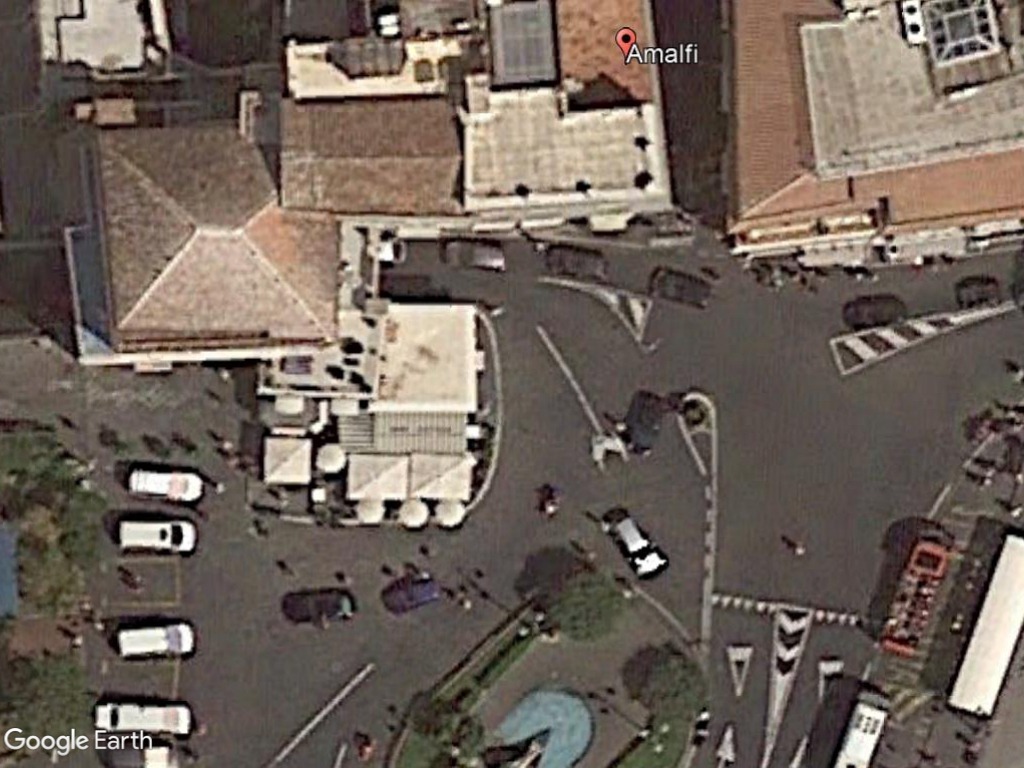car: (601, 509, 671, 586), (92, 697, 198, 741), (116, 513, 205, 563), (109, 617, 201, 665), (122, 462, 210, 507), (440, 236, 514, 280)
other: (870, 521, 965, 665), (282, 587, 362, 630), (375, 572, 449, 618)
